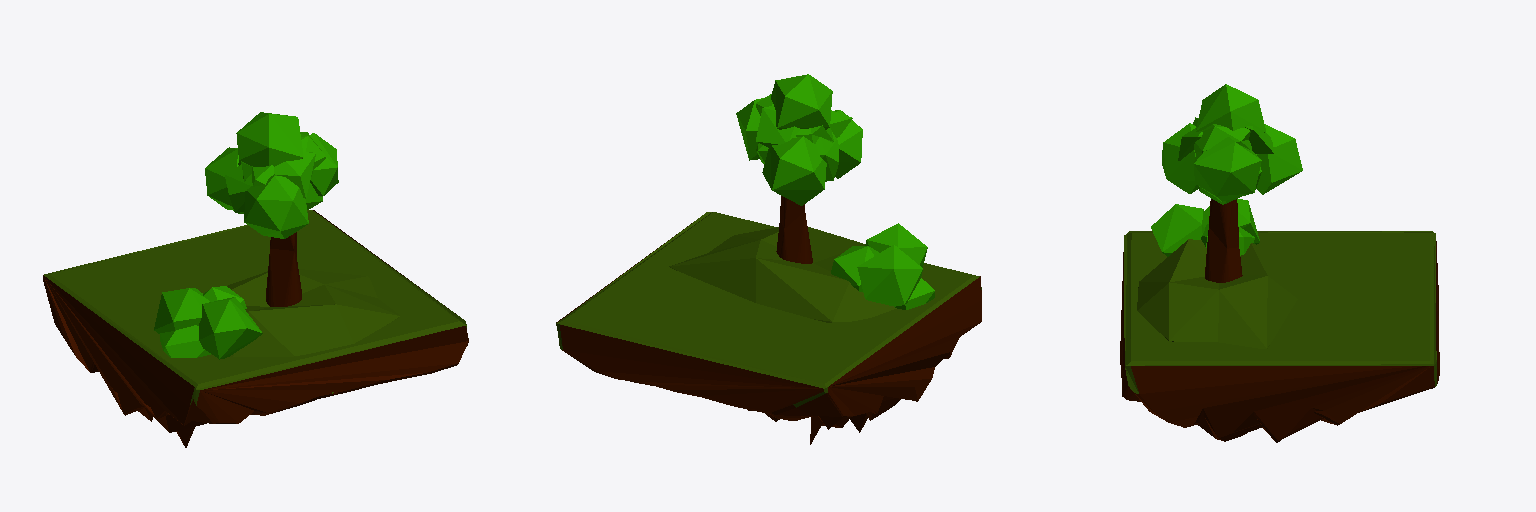
File: floating-island.obj
The picture shows the model from 3 angles: view 1: azimuth 30°, elevation 25°; view 2: azimuth 150°, elevation 25°; view 3: azimuth 270°, elevation 25°; orthographic projection.
Visible parts, largest first — view 1: Ground_Grid, Tree_Icosphere, Bush_Icosphere.001; view 2: Ground_Grid, Tree_Icosphere, Bush_Icosphere.001; view 3: Ground_Grid, Tree_Icosphere, Bush_Icosphere.001.
Part boxes in pixels (x1,y1,x2,y2): Ground_Grid: (43, 210, 468, 447); Tree_Icosphere: (205, 112, 338, 306); Bush_Icosphere.001: (154, 286, 262, 359); Ground_Grid: (556, 212, 981, 444); Tree_Icosphere: (736, 74, 862, 263); Bush_Icosphere.001: (831, 223, 934, 309); Ground_Grid: (1120, 231, 1439, 442); Tree_Icosphere: (1162, 84, 1302, 282); Bush_Icosphere.001: (1151, 199, 1259, 256).
Bounding box in the file's own units: 17.62 × 18.65 × 16.35.